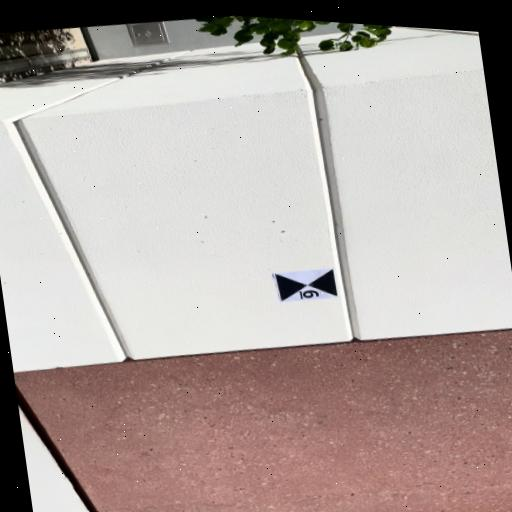target6: (273, 269, 336, 304)
